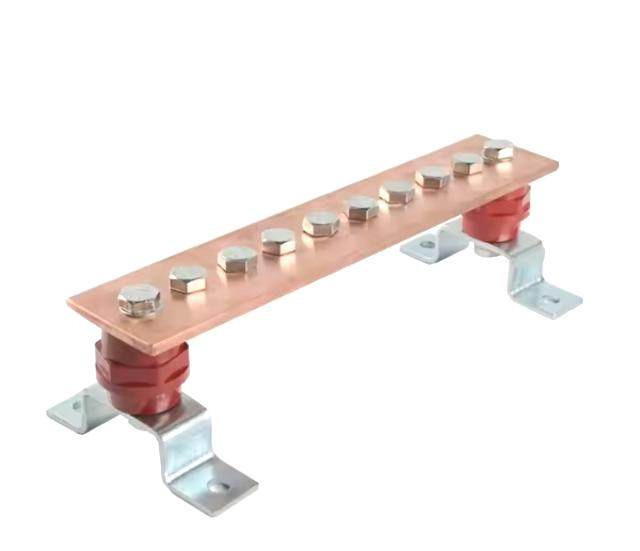busbar: (45, 133, 583, 518)
